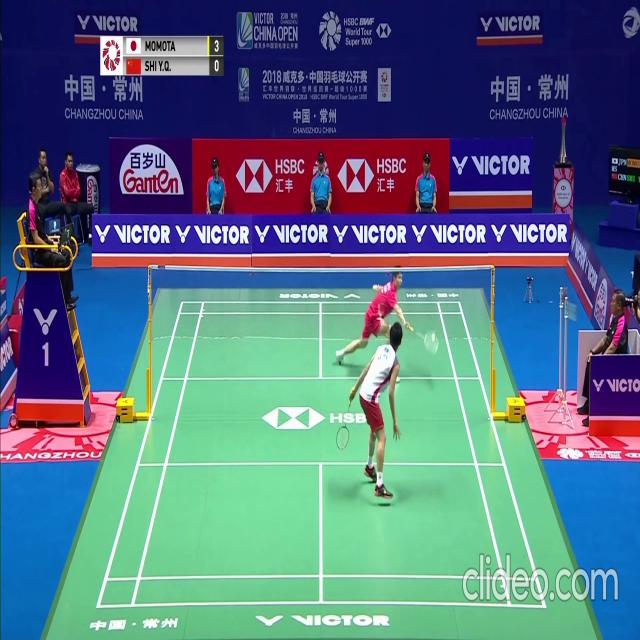Shuttlecock: (431, 334, 436, 342)
